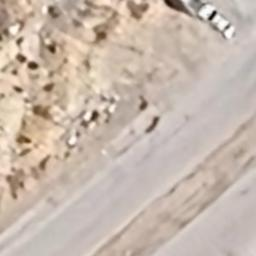sedan: (196, 2, 236, 40)
